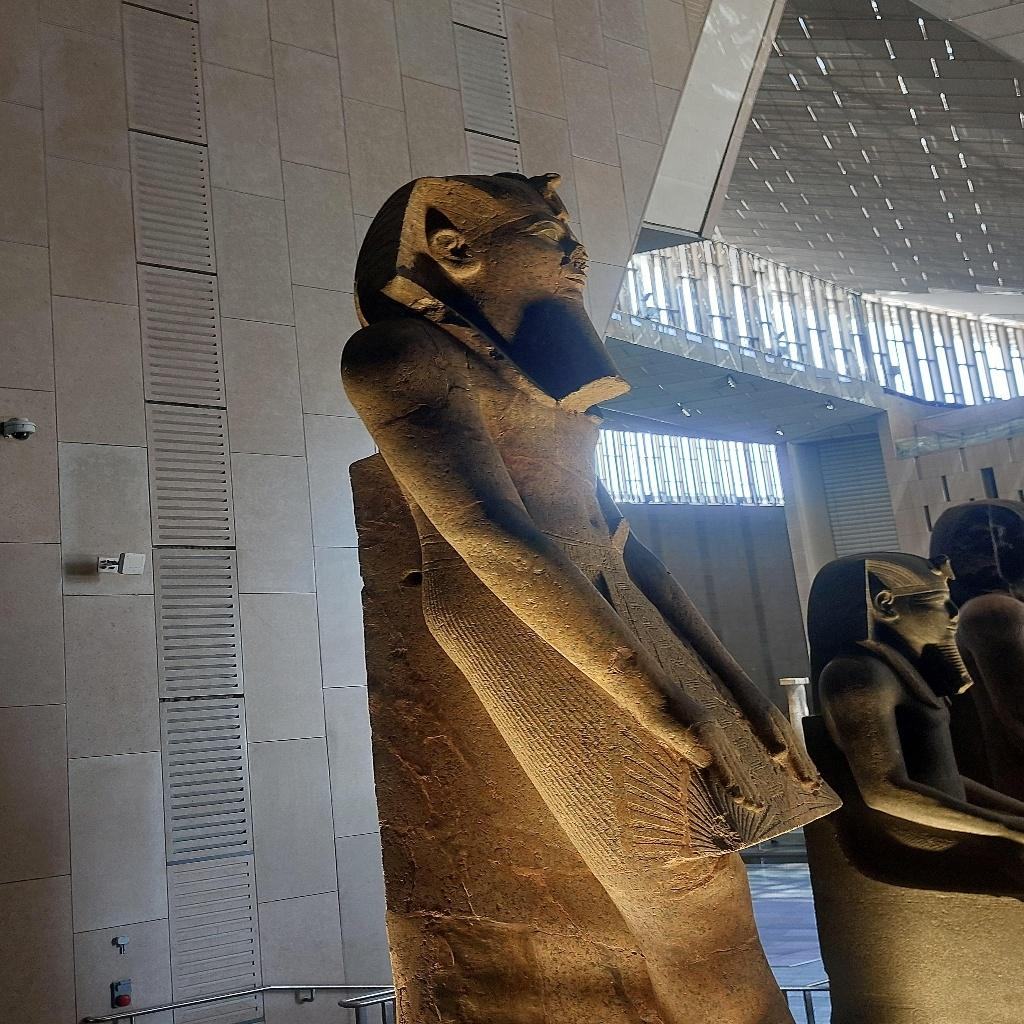Colossal Statue of Queen Hatshepsut: (337, 164, 846, 1019)
